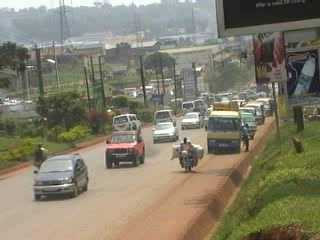Car: (32, 152, 91, 204), (102, 129, 150, 168), (150, 121, 182, 142), (179, 112, 201, 132)
Motorcycle: (170, 136, 205, 176), (29, 144, 50, 177)
